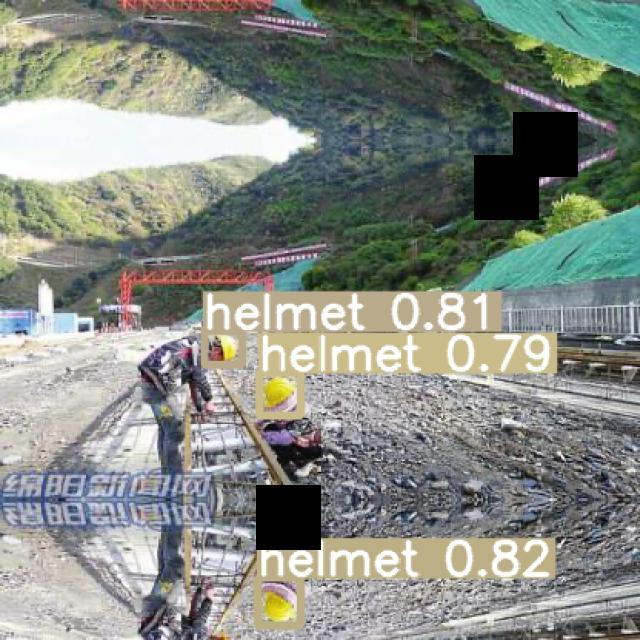yellow helmet: (259, 587, 297, 625), (268, 376, 298, 411), (213, 335, 237, 364)
